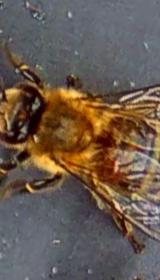varroa_mite: (95, 154, 128, 190)
